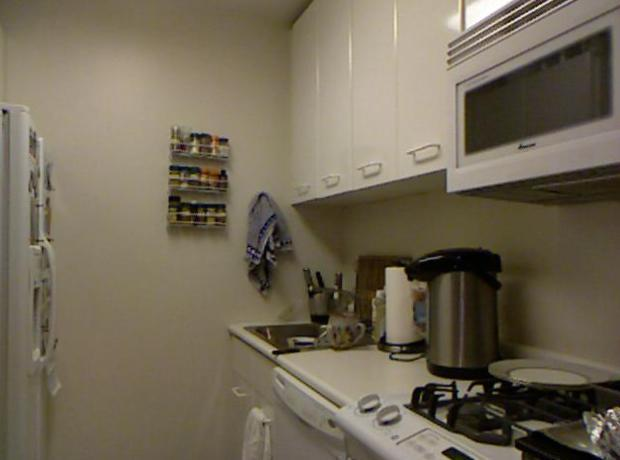Electrodomestico: (0, 129, 55, 457)
Lavaplatos: (232, 281, 378, 368)
